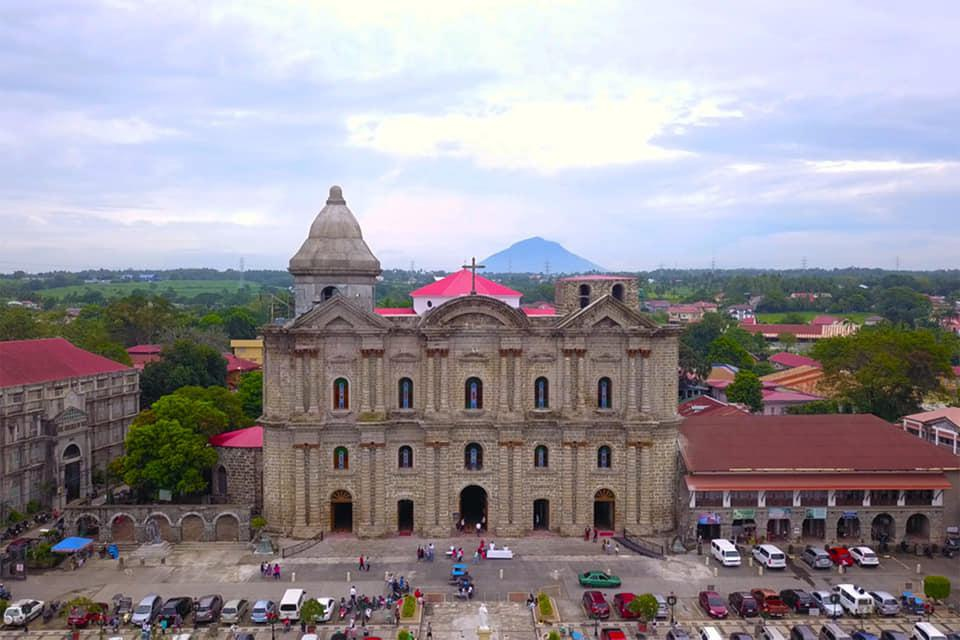taal_basilica_church_taal_batangas: (246, 181, 685, 562)
